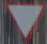Give way: (4, 0, 42, 43)
